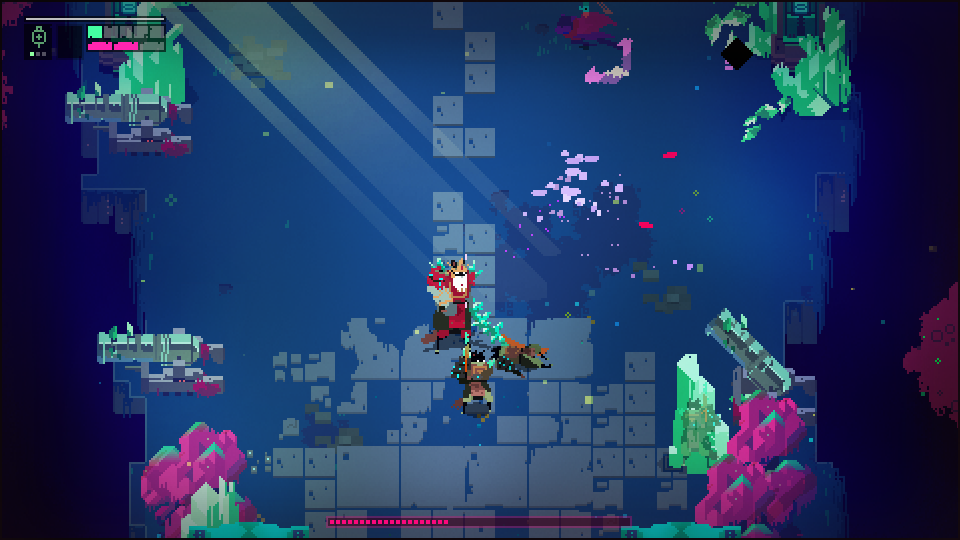hanged_man: (416, 253, 510, 351)
